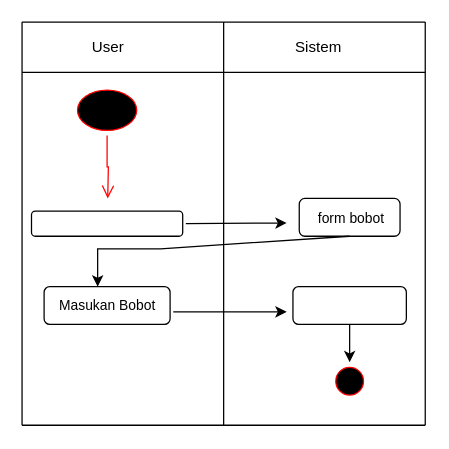
The diagram is 449 pixels wide and 449 high, and some of its shapes have lost their labels. The centre of each missing label's shape, as x and y in pixels:
"Hasil Rekomendasi" goes at point 349,304.
"Masuk Link Spk" goes at point 106,223.
